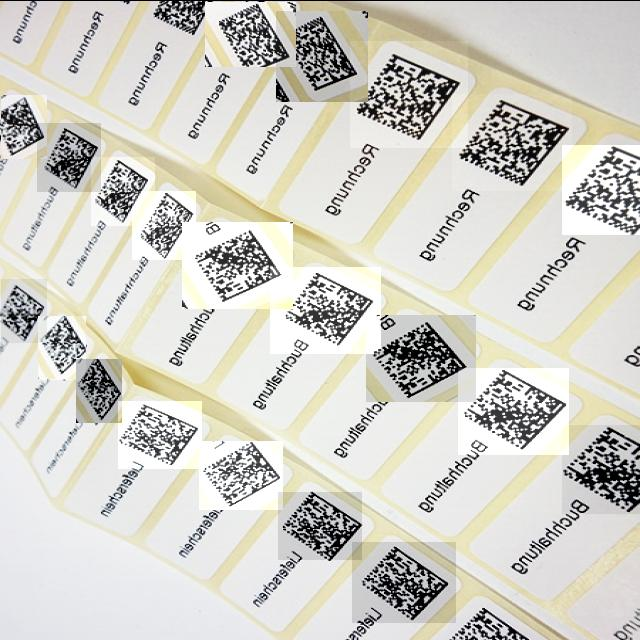DataMatrix: (350, 40, 468, 147), (452, 93, 572, 190), (458, 367, 569, 454), (270, 266, 381, 353), (182, 221, 293, 308), (366, 314, 476, 401), (352, 541, 456, 622), (276, 10, 368, 101), (562, 144, 640, 234), (562, 424, 640, 513), (205, 1, 296, 66), (199, 440, 283, 509), (118, 400, 202, 468), (278, 491, 362, 559), (132, 190, 196, 259), (91, 156, 155, 225), (37, 122, 101, 191), (38, 316, 86, 380), (1, 94, 47, 158), (1, 278, 47, 342), (76, 358, 122, 422)
